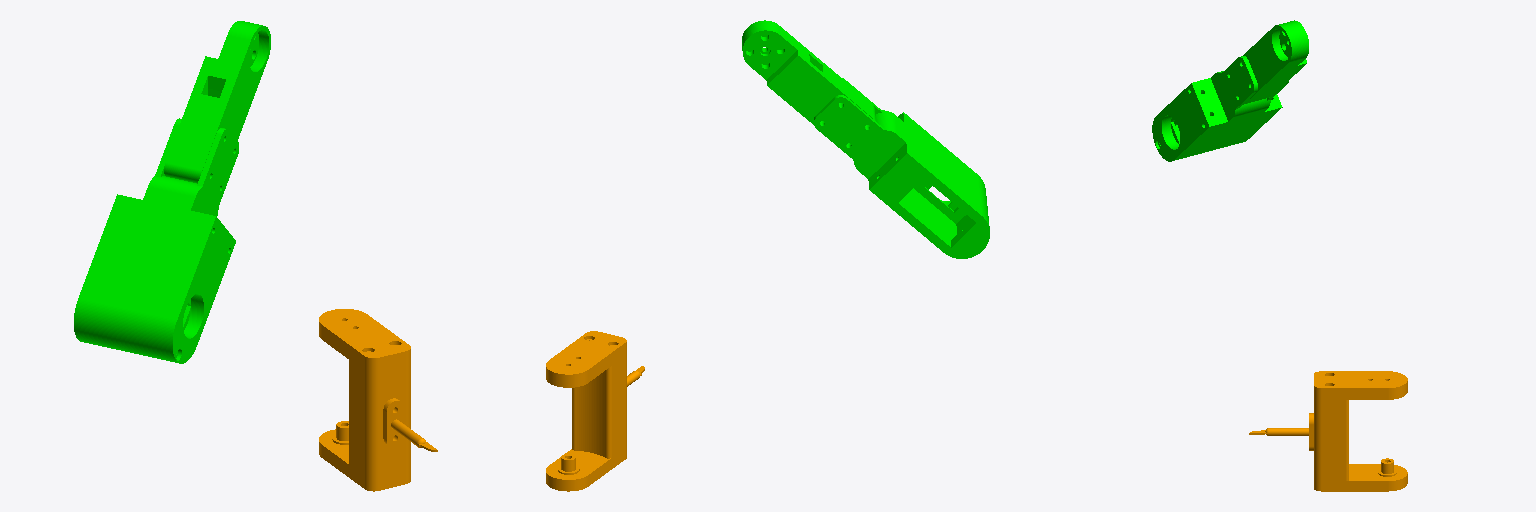
robot.urdf — onshape:
<robot name="onshape">
<material name="white">
		<color rgba="1 1 1 1"/>
	</material>
	<material name="red">
		<color rgba="1 0 0 1"/>
	</material>
	<material name="yellow">
		<color rgba="1 1 0 1"/>
	</material>
	<material name="orange">
		<color rgba="1 0.647 0 1"/>
	</material>
	<material name="green">
		<color rgba="0 1 0 1"/>
	</material>
	<material name="blue">
		<color rgba="0 0 1 1"/>
	</material>
	<material name="black">
		<color rgba="0 0 0 1"/>
	</material>

    <link name="world"/>

    <link name="base">
        <visual>
            <geometry>
                <mesh filename="meshes/visual/Bolean Base.stl" scale="0.006 0.006 0.006"/>
            </geometry>
            <material name="red"/>
            <origin xyz="0 0 0" rpy="1.570796 0 0"/> 
        </visual>
        <collision>
            <geometry>
                <mesh filename="meshes/collision/Bolean Base collision.stl" scale="0.006 0.006 0.006"/>
            </geometry>
            <origin xyz="0 0 0" rpy="1.570796 0 0"/> 
        </collision>
        <inertial>
            <mass value="1.0"/>
            <origin xyz="0 0 1" rpy="0 0 0" />
            <inertia ixx="0.0027" iyy="0.0027" izz="0.005" ixy="0" ixz="0" iyz="0"/>
        </inertial>
    </link>

    <joint name="r_axis" type="revolute">
        <parent link="world"/>
        <child link="base"/>
        <origin xyz="0 0 0"	rpy="0 0 0"/>
        <axis xyz="0 0 1"/>
        <limit lower="-3.1415926536" upper="3.1415926536" effort="0" velocity="0.174533"/>
    </joint>

    <link name="arm_section_1">
            <visual>
                <geometry>
                    <mesh filename="meshes/visual/Bolean ARM1.stl" scale="0.006 0.006 0.006"/>
                </geometry>
                <material name="orange"/>
                <origin xyz="0 0 0.012" rpy="1.570796 0 0" /> 
            </visual>
            <collision>
                <geometry>
                    <mesh filename="meshes/collision/Bolean ARM1 collision.stl" scale="0.006 0.006 0.006"/>
                </geometry>
                <origin xyz="0 0 0.012" rpy="1.570796 0 0"/> 
            </collision>
            <!-- Check intertial values-->
            <inertial>
                <mass value="1.0"/>
                <origin xyz="0 0 1" rpy="0 0 0" />
                <inertia ixx="0.0027" iyy="0.0027" izz="0.005" ixy="0" ixz="0" iyz="0"/>
            </inertial>
    </link>

        <joint name="base_to_arm_section_1" type="fixed">
            <parent link="base"/>
            <child link="arm_section_1"/>
            <origin xyz="0 -0.012 0"	rpy="0 0 0"/>
        </joint>

<link name="arm_section_2">
		<visual>
			<geometry>
				<mesh filename="meshes/visual/Bolean ARM2.stl" scale="0.006 0.006 0.006"/>
			</geometry>
            <material name="yellow"/>
			<origin xyz="0 0 -0.45" rpy="0 0 0"/> 
		</visual>
		<collision>
			<geometry>
				<mesh filename="meshes/collision/Bolean ARM2 collision.stl" scale="0.005 0.005 0.005"/>
			</geometry>
			<origin xyz="0 0 -0.45" rpy="0 0 0"/> 
		</collision>
		<!-- Check intertial values-->
		<inertial>
			<mass value="1.0"/>
			<origin rpy="0 0 0" xyz="0 0 1"/>
			<inertia ixx="0.0027" iyy="0.0027" izz="0.005" ixy="0" ixz="0" iyz="0"/>
		</inertial>
	</link>

    <joint name="a_axis" type="revolute">
		<parent link="arm_section_1"/>
		<child link="arm_section_2"/>
		<origin xyz="0 0 0.45" rpy="0 0 0.5"/>
		<axis xyz="0 1 0"/>
		<limit lower="-1.047" upper="1.39626" effort="0" velocity="0.174533"/>
	</joint>

    <link name="arm_section_3">
		<visual>
			<geometry>
				<mesh filename="meshes/visual/B_section.stl" scale="0.006 0.006 0.006"/>
			</geometry>
			<material name="green"/>
			<origin xyz="0.65 -0.2 -1.15" rpy="1.570796 0 -0.5"/> 
		</visual>
		<collision>
			<geometry>
				<mesh filename="meshes/collision/B_section_collision.stl" scale="0.005 0.005 0.005"/>
			</geometry>
			<origin xyz="0.65 -0.2 -1.15" rpy="1.570796 0 -0.5"/> 
		</collision>
		<!-- Check intertial values-->
		<inertial>
			<mass value="1.0"/>
			<origin rpy="0 0 0" xyz="0 0 1"/>
			<inertia ixx="0.0027" iyy="0.0027" izz="0.005" ixy="0" ixz="0" iyz="0"/>
		</inertial>
	</link>

    <joint name="b_axis" type="revolute">
		<parent link="arm_section_2"/>
		<child link="arm_section_3"/>
		<origin xyz="-0.65 0.2 0.7" rpy="0 0 0"/>
		<axis xyz="0 1 0"/>
		<limit lower="0" upper="2.79253" effort="0" velocity="0.174533"/>
	</joint>

	<link name="arm_section_4">
		<visual>
			<geometry>
				<mesh filename="meshes/visual/C_section.stl" scale="0.005 0.005 0.005"/>
			</geometry>
			<material name="blue"/>
			<origin xyz="1.04 -0.21 -0.5" rpy="1.570796 0 -0.5"/> 
		</visual>
		<collision>
			<geometry>
				<mesh filename="meshes/collision/C_section_collision.stl" scale="0.005 0.005 0.005"/>
			</geometry>
			<origin xyz="1.04 -0.21 -0.5" rpy="1.570796 0 -0.5"/> 
		</collision>
		<!-- Check intertial values-->
		<inertial>
			<mass value="1.0"/>
			<origin rpy="0 0 0" xyz="0 0 1"/>
			<inertia ixx="0.0027" iyy="0.0027" izz="0.005" ixy="0" ixz="0" iyz="0"/>
		</inertial>
	</link>

    <joint name="c_axis" type="revolute">
		<parent link="arm_section_3"/>
		<child link="arm_section_4"/>
		<origin xyz="-0.59 0 -0.55" rpy="0 0 0"/>
		<axis xyz="0 1 0"/>
		<limit lower="-1.570796" upper="1.570796" effort="0" velocity="0.174533"/>
	</joint>

</robot>

--- Render facts (derived) ---
Views: 3 orthographic renders of the robot side by side, from view 1: azimuth 30°, elevation 25°; view 2: azimuth 150°, elevation 25°; view 3: azimuth 270°, elevation 25°.
Robot: onshape — 6 links, 5 joints (4 revolute, 1 fixed); root link world; default pose: every joint at zero.
Links seen in each view (by area): view 1: arm_section_3, arm_section_1; view 2: arm_section_3, arm_section_1; view 3: arm_section_3, arm_section_1.
Link boxes in pixels (x1,y1,x2,y2): arm_section_3: (74,21,270,363); arm_section_1: (319,309,437,491); arm_section_3: (742,20,989,258); arm_section_1: (546,331,644,491); arm_section_3: (1152,20,1308,161); arm_section_1: (1249,371,1407,491).
Size in the robot's own frame: 1.33 by 0.9534 by 1.64 metres.
2 mesh visuals loaded from 5 distinct referenced files (2 binary STL); not drawn: 3 (reference not matched to a file when rendering).